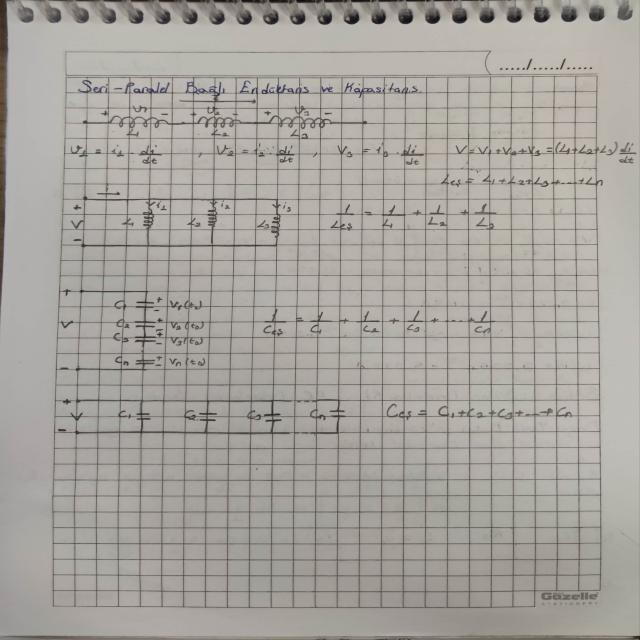image: (65, 185, 304, 256), (52, 288, 215, 378), (57, 392, 360, 438), (79, 96, 373, 140)
math: (66, 141, 434, 172), (258, 303, 506, 345), (371, 396, 575, 427), (443, 137, 640, 168), (326, 201, 505, 235), (436, 168, 615, 192)
text: (74, 76, 421, 95)
